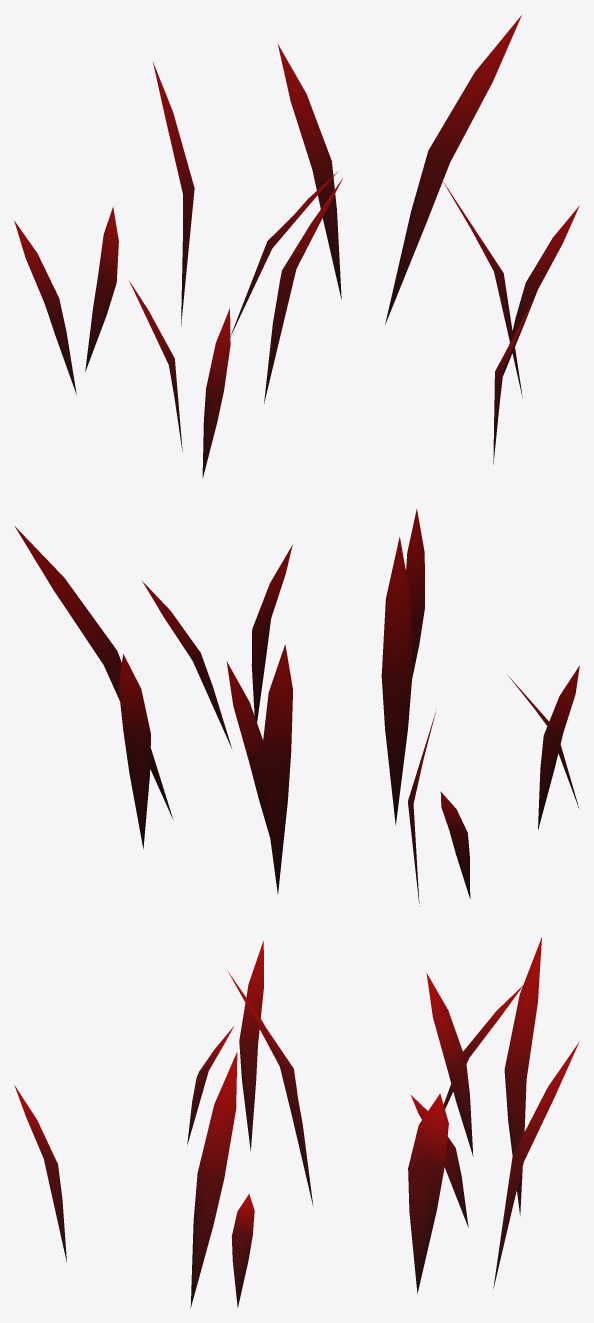
Rendered from Grass_Low.fbx.
3 renders of one model, top to bottom at view 1: azimuth 30°, elevation 25°; view 2: azimuth 150°, elevation 25°; view 3: azimuth 270°, elevation 25°, orthographic. The views are drawn at different scales.
Parts seen in each view (by area): view 1: grass; view 2: grass; view 3: grass.
Part boxes in pixels (x1,y1,x2,y2): grass: (14,15,579,478); grass: (14,509,579,906); grass: (14,937,579,1307).
Size of the model in its own units: 0.4938 by 0.2632 by 0.4895.
